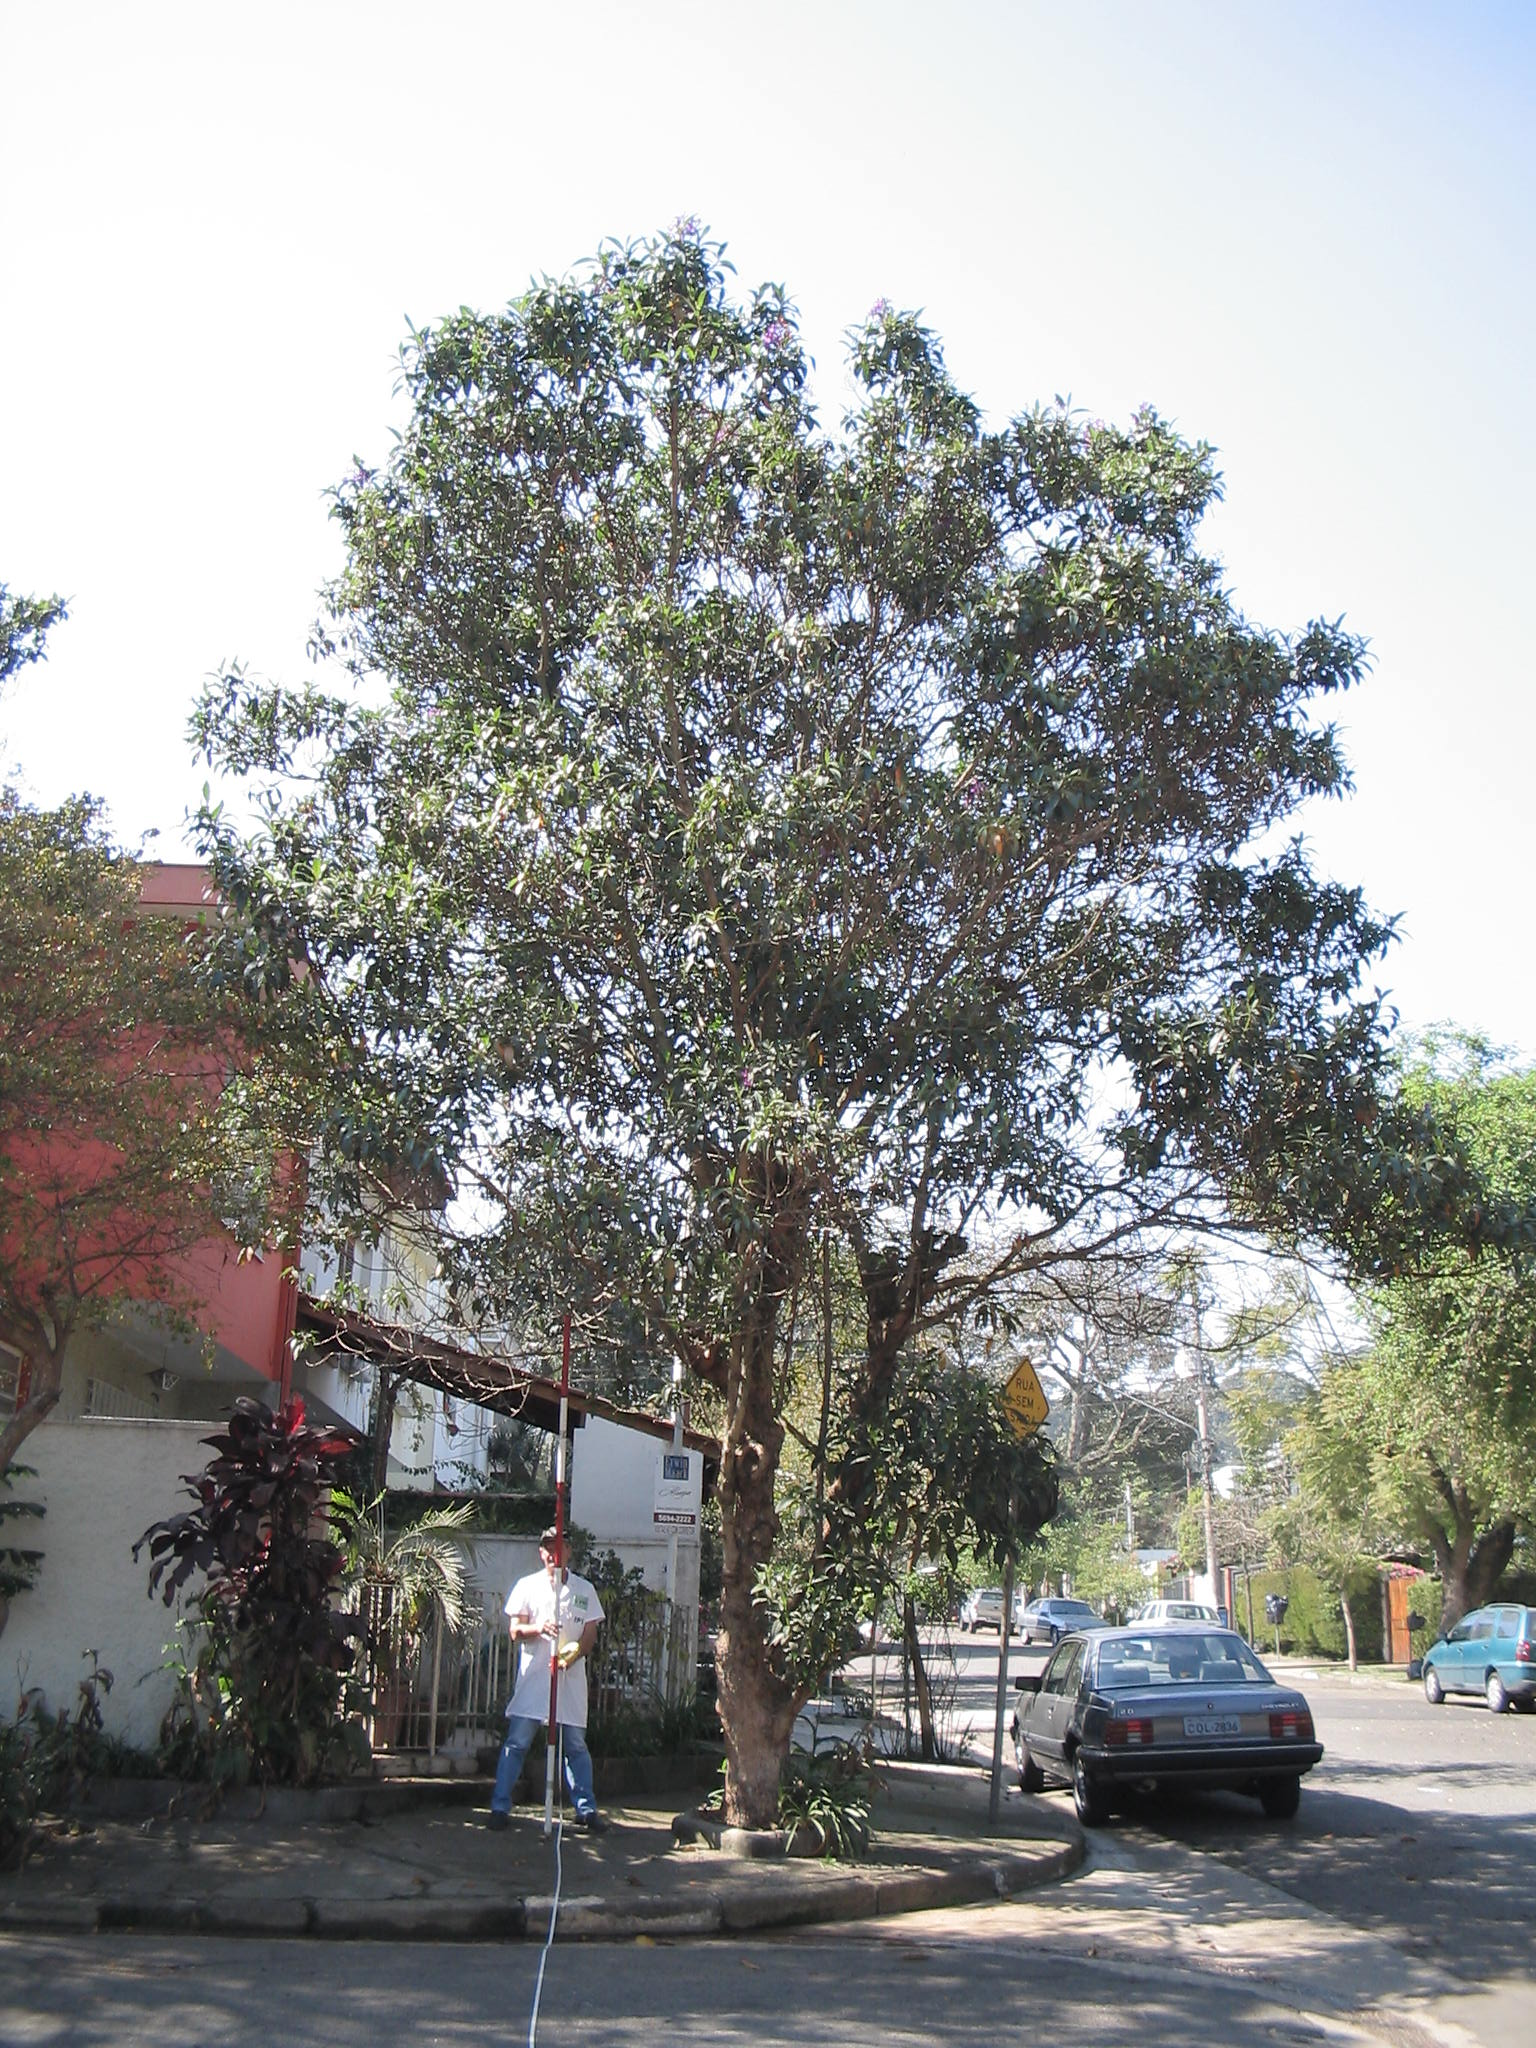crown: (181, 205, 1521, 1471)
stem: (674, 1632, 878, 1832)
stick: (508, 1317, 611, 1832)
tree: (174, 197, 1530, 1845)
